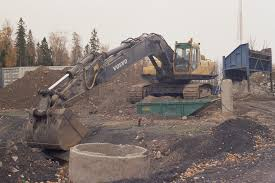excavator: (27, 34, 216, 150)
